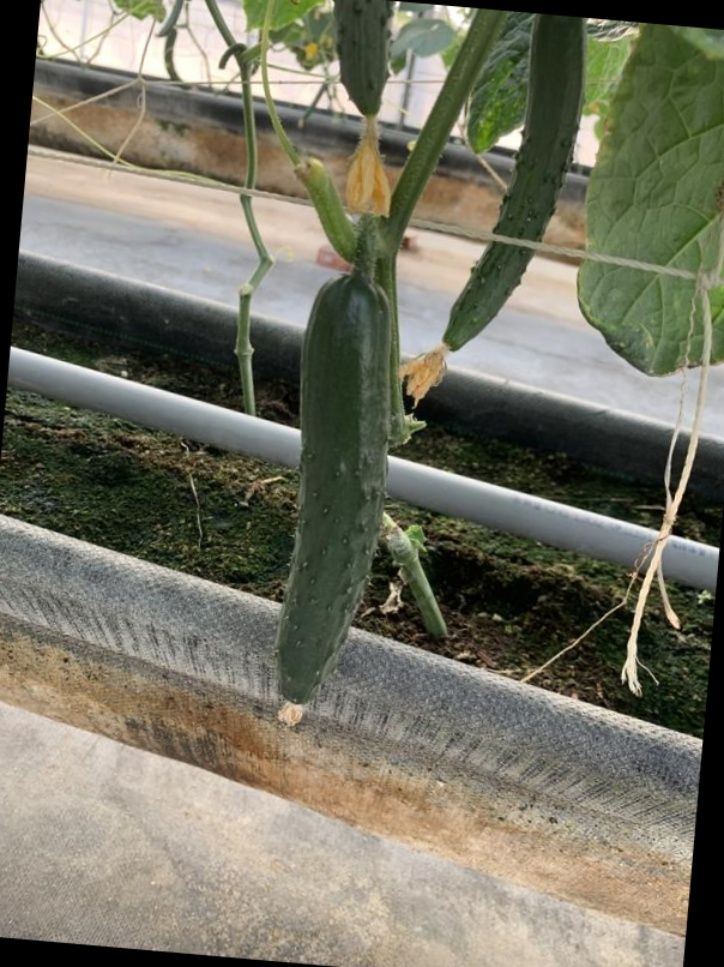mature: (271, 273, 403, 712), (440, 13, 592, 349)
